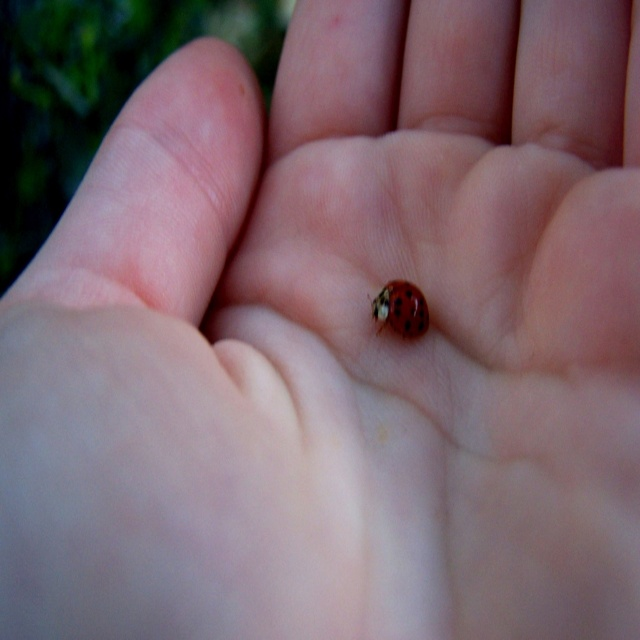Ladybug: (366, 279, 427, 337)
